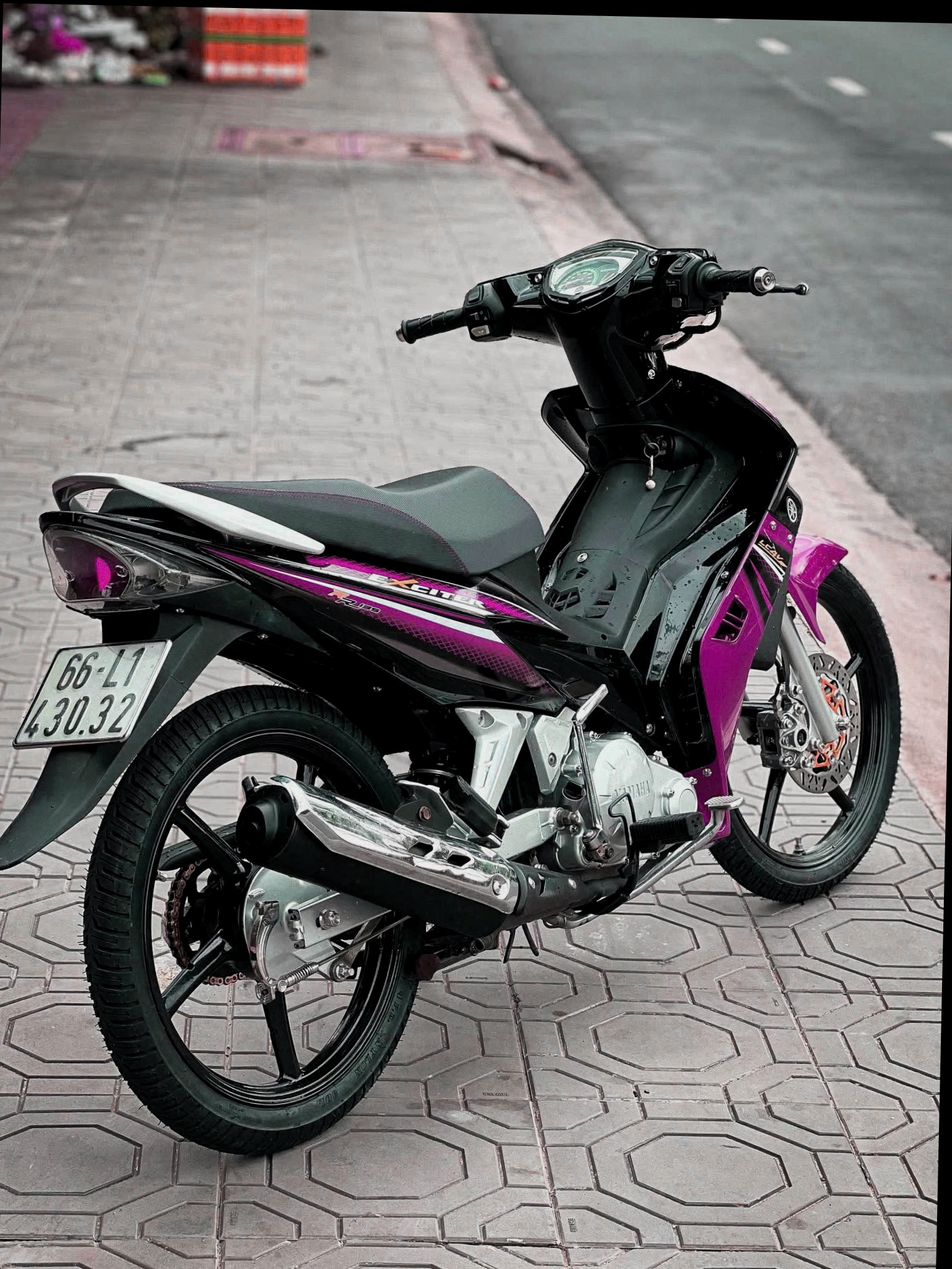Bien-so: (13, 640, 175, 747)
